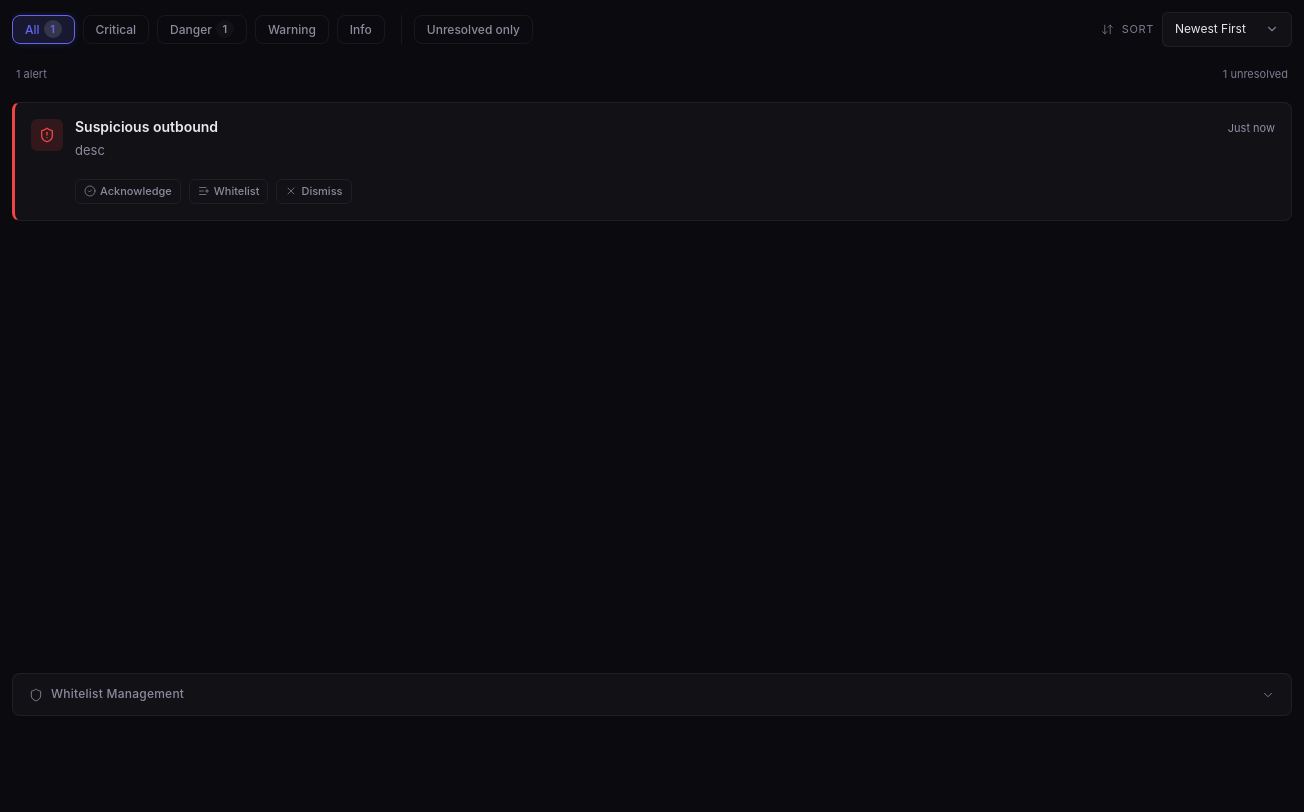
it: AlertsView integration › surfaces an acknowledge failure instead of swallowing it
Step 1. Click the button "Acknowledge" → (128, 192), box [75, 179, 181, 204]
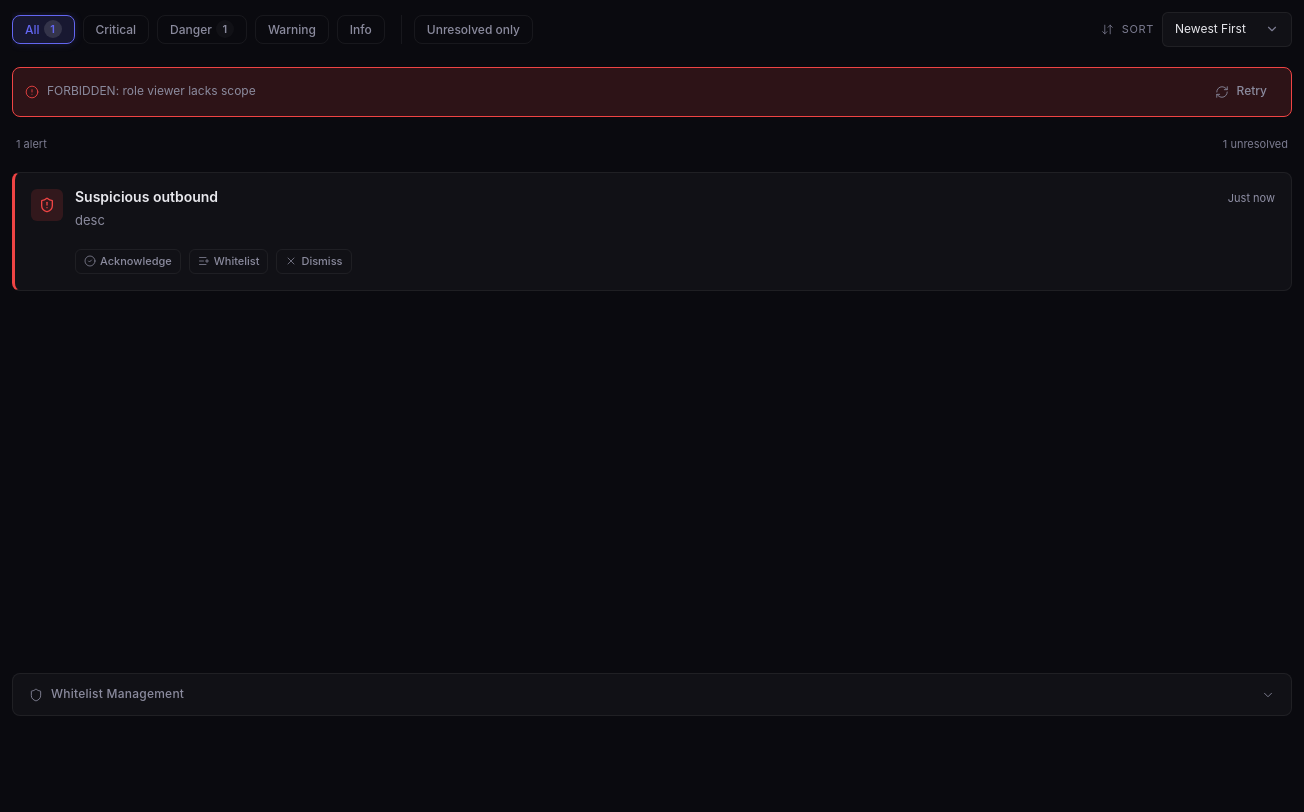
expect the message does not show "invoking remote method": met, box [12, 67, 1292, 117]
expect the message shows "FORBIDDEN: role viewer lacks scope": met, box [47, 83, 256, 98]
